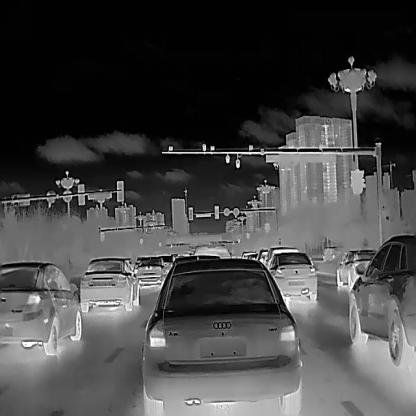car: (142, 256, 302, 415), (345, 232, 415, 364), (0, 262, 81, 355), (80, 256, 139, 312), (266, 251, 316, 299), (334, 249, 379, 289), (134, 255, 166, 283), (322, 244, 340, 262)
